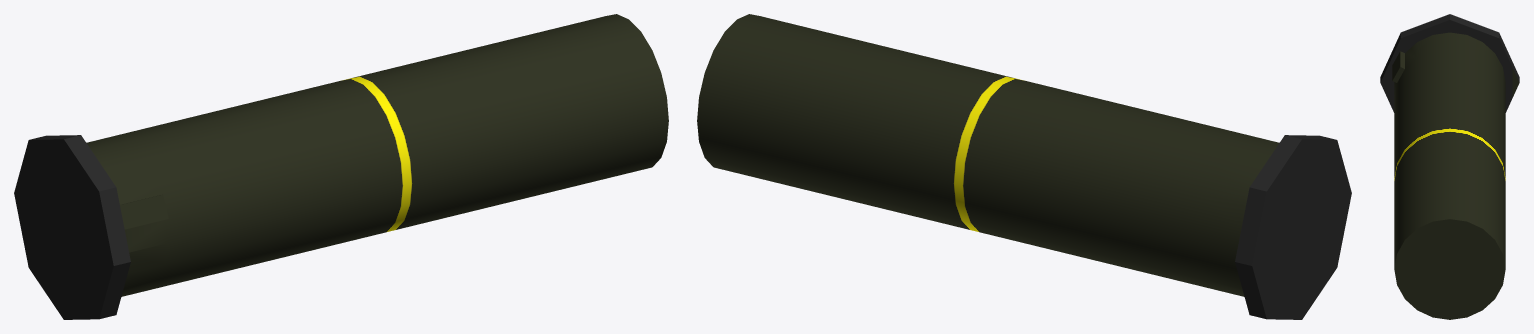
The model's file is rocket_launcher.fbx.
3 views of the same model, side by side, from view 1: azimuth 30°, elevation 25°; view 2: azimuth 150°, elevation 25°; view 3: azimuth 270°, elevation 25° (orthographic). The views are drawn at different scales.
Parts seen in each view (by area): view 1: pCylinder3; view 2: pCylinder3; view 3: pCylinder3.
Boxes of the visible parts, x1=… form: pCylinder3: x1=14, y1=14, x2=668, y2=319; pCylinder3: x1=697, y1=14, x2=1351, y2=319; pCylinder3: x1=1380, y1=14, x2=1519, y2=319.
Bounding box in the file's own units: 6.55 × 2 × 2.
